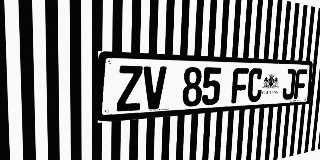5: (202, 67, 221, 106)
8: (182, 67, 203, 107)
C: (247, 68, 263, 102)
F: (231, 68, 249, 103), (294, 69, 307, 99)
J: (282, 69, 296, 100)
V: (143, 66, 167, 110)
Z: (117, 65, 143, 112)
